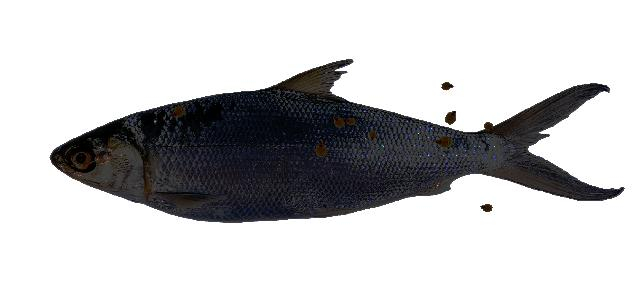Parasitic Disease: (52, 60, 621, 221), (52, 61, 621, 221)
